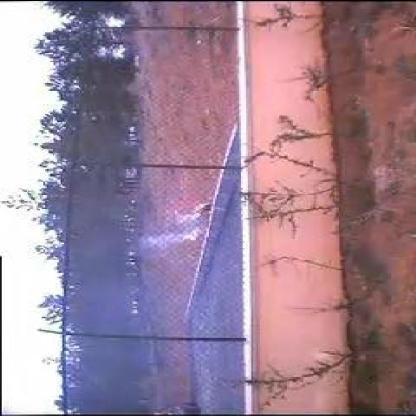-: (119, 211, 237, 334)
